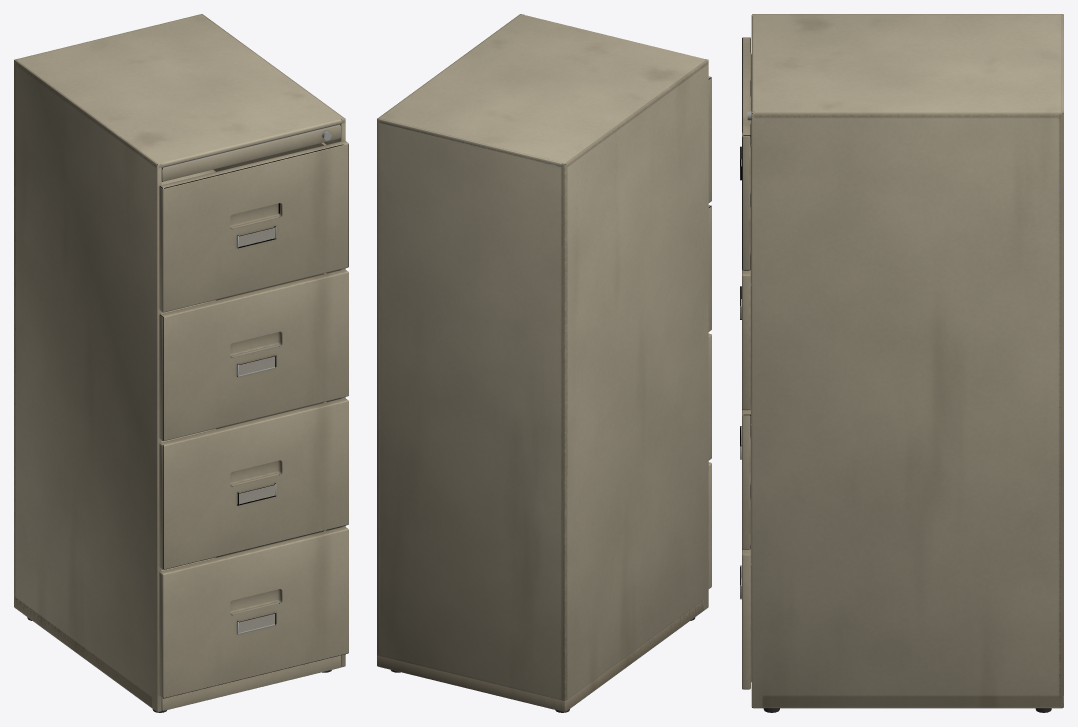
File: akte_beige.glb
3 renders of one model, left to right at view 1: azimuth 30°, elevation 25°; view 2: azimuth 150°, elevation 25°; view 3: azimuth 270°, elevation 25°, orthographic. The views are drawn at different scales.
Parts seen in each view (by area): view 1: korpus, schublade_4, schublade_1, schublade_3, schublade_2; view 2: korpus; view 3: korpus, schublade_4, schublade_3, schublade_1, schublade_2.
Part boxes in pixels (box(x1,y1,x2,y2)): korpus: box(14, 14, 345, 712); schublade_4: box(159, 140, 348, 312); schublade_1: box(159, 526, 348, 698); schublade_3: box(159, 269, 348, 441); schublade_2: box(159, 398, 348, 569); korpus: box(377, 14, 708, 712); korpus: box(747, 14, 1063, 712); schublade_4: box(740, 37, 751, 270); schublade_3: box(740, 263, 751, 410); schublade_1: box(740, 542, 751, 689); schublade_2: box(740, 403, 751, 549).
Bounding box in the file's own units: 0.47 × 1.32 × 0.643.
1 material, 1 textured.
